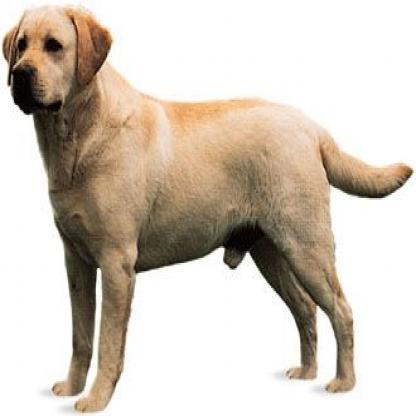Labarador Retriever: (0, 7, 406, 413)
